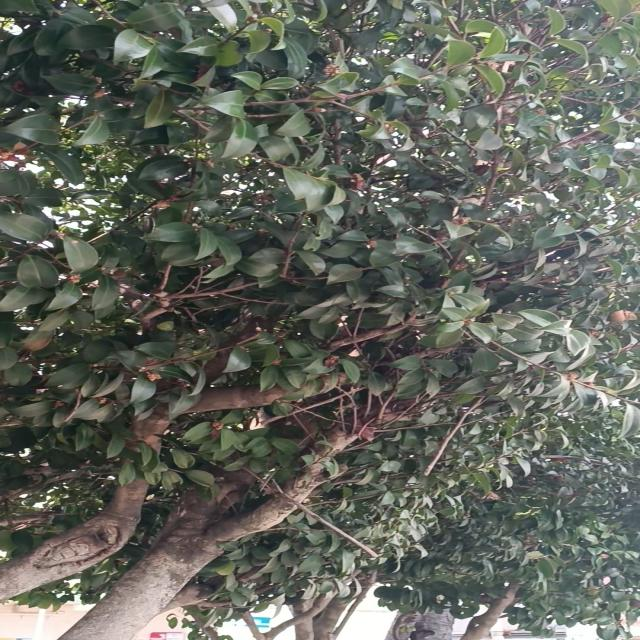Branch: (57, 408, 337, 640)
Twig: (211, 402, 405, 541)
